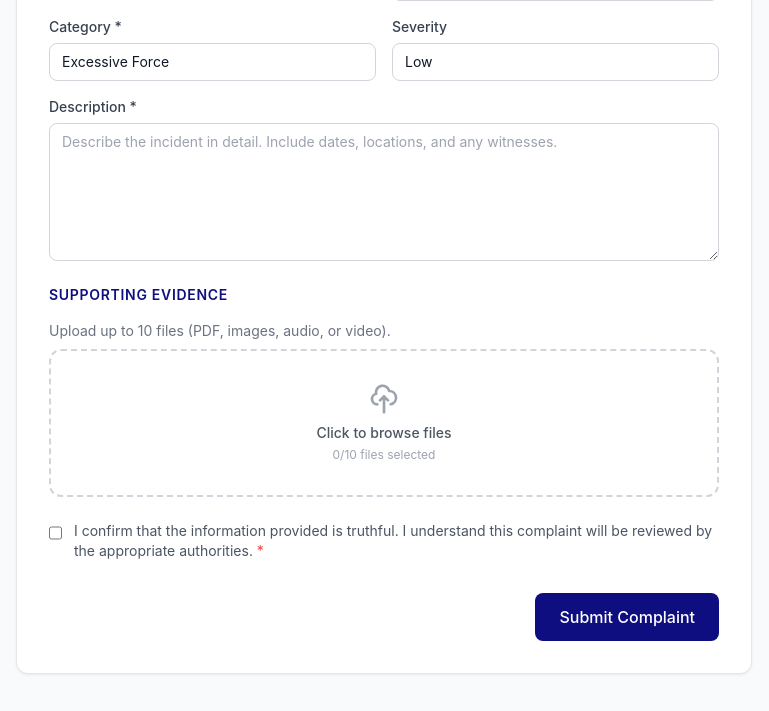
Scenario: SubmitComplaintPage › shows validation errors on empty submit
(page scrolled)
Step 1. Click the button "Submit Complaint" → x=627, y=617, box [536,593,719,641]
(page scrolled)
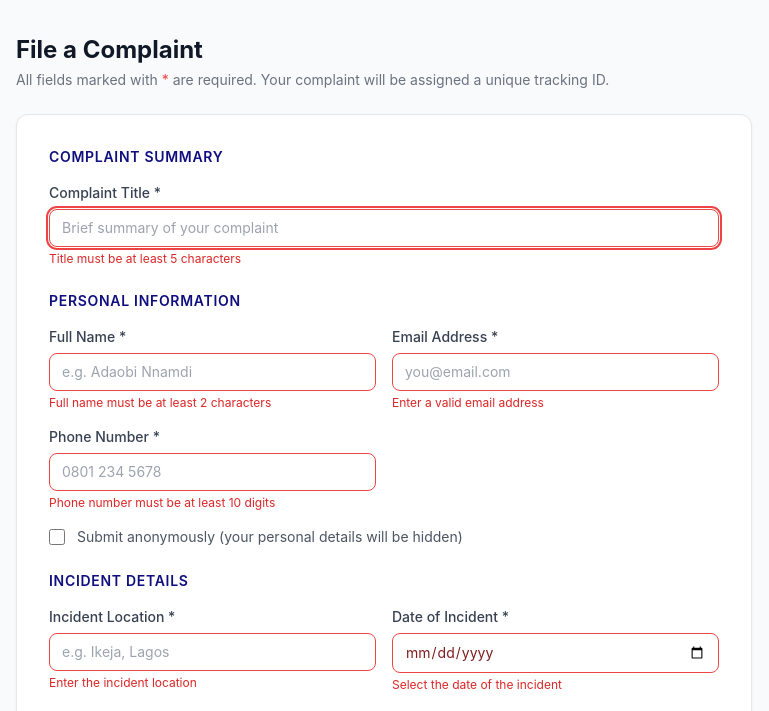
Check: the message "Title must be at least 5 characters" is shown, box [49,251,241,266]
